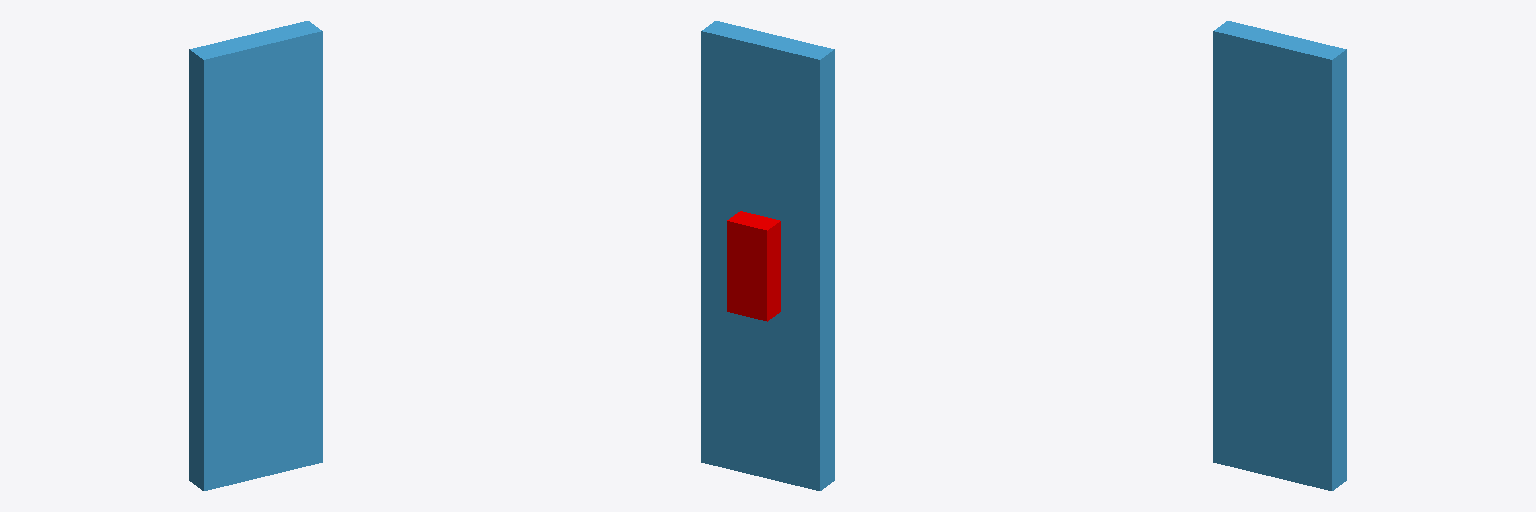
The robot description file, URDF, robot "knife":
<?xml version='1.0' encoding='utf-8'?>
<robot name="knife">
  <link name="link_1">
    <visual name="link_1">
      <origin xyz="0 0.008148 0" rpy="0 0 0" />
      <geometry>
        <box size="0.013613599754084134 0.007911153957724407 0.029175356284602702" /></geometry>
    <material name="red"><color rgba="1 0 0 1" /></material></visual>
    <collision>
      <origin xyz="0 0.008148 0" rpy="0 0 0" />
      <geometry>
        <box size="0.013613599754084134 0.007911153957724407 0.029175356284602702" /></geometry>
    </collision>
    </link>
  <joint name="joint_1" type="prismatic">
    <origin xyz="0 0 0" />
    <axis xyz="0 0 1" />
    <child link="link_1" />
    <parent link="link_0" />
    <limit lower="-0.029001" upper="0.020999" effort="100.0" velocity="1.0" />
  </joint>
  <link name="link_0">
    <visual name="link_0">
      <origin xyz="0 0 0" />
      <geometry>
        <box size="0.03981140486986727 0.008384198733768987 0.13832293017737426" /></geometry>
    </visual>
    <collision>
      <origin xyz="0 0 0" />
      <geometry>
        <box size="0.03981140486986727 0.008384198733768987 0.13832293017737426" /></geometry>
    </collision>
    </link>
</robot>

--- What the picture shows (computed from the rendered views, not written in the file) ---
Views: 3 orthographic renders of the robot side by side, from view 1: azimuth 30°, elevation 25°; view 2: azimuth 150°, elevation 25°; view 3: azimuth 330°, elevation 25°.
Robot: knife — 2 links, 1 joints (1 prismatic); root link link_0; default pose: all joints at 0.
Visible links, largest first — view 1: link_0; view 2: link_0, link_1; view 3: link_0.
Link boxes in pixels (x1,y1,x2,y2): link_0: (189,21,322,490); link_0: (701,21,834,490); link_1: (727,211,780,321); link_0: (1213,21,1346,490).
Bounding box of the posed robot: 0.0398 × 0.0163 × 0.1383 m (x, y, z).
Geometry: primitives only (box / cylinder / sphere), no mesh files.
